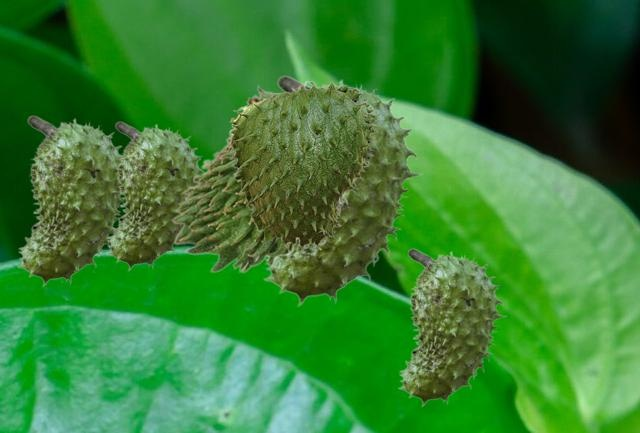guyabano: (262, 75, 422, 306), (170, 84, 346, 272), (229, 80, 378, 251), (16, 115, 124, 286), (397, 248, 506, 406), (105, 121, 203, 270)
